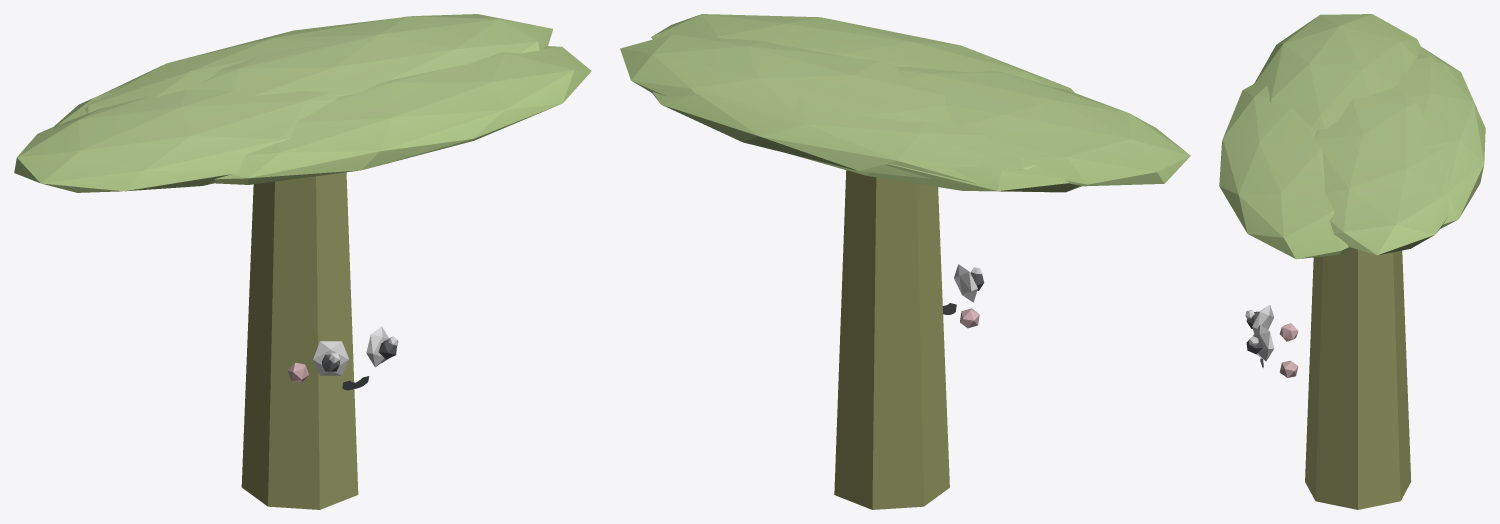
Rendered from heliconia-latispatha.glb.
The picture shows the model from 3 angles, left to right: view 1: azimuth 30°, elevation 25°; view 2: azimuth 150°, elevation 25°; view 3: azimuth 270°, elevation 25°; orthographic projection. The views are drawn at different scales.
Parts seen in each view (by area): view 1: pseudostem, leaf1, leaf2, leaf0, leaf3, pface-eye-r; view 2: pseudostem, leaf2, leaf0, leaf3, leaf1, leaf4; view 3: pseudostem, leaf0, leaf1, leaf2, leaf3, leaf4, pface-eye-l, pface-eye-r.
Part boxes in pixels (x1,y1,x2,y2): pseudostem: (241,172,358,509); leaf1: (214,46,591,184); leaf2: (14,89,338,192); leaf0: (200,14,552,96); leaf3: (85,18,396,113); pface-eye-r: (313,341,348,375); pseudostem: (834,170,949,509); leaf2: (896,67,1190,186); leaf0: (620,34,950,123); leaf3: (652,91,1036,183); leaf1: (651,14,1074,92); leaf4: (791,154,1081,192); pseudostem: (1305,248,1411,509); leaf0: (1314,89,1451,255); leaf1: (1219,84,1352,259); leaf2: (1253,14,1420,130); leaf3: (1389,55,1485,228); leaf4: (1418,46,1477,109); pface-eye-l: (1253,324,1274,361); pface-eye-r: (1252,305,1274,333).
Size of the model in its own units: 0.6235 by 0.446 by 0.2935.
